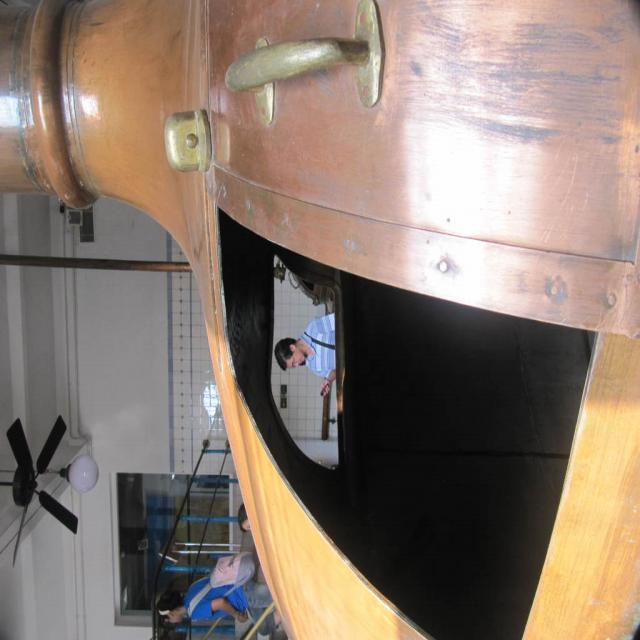fan_off: (0, 414, 86, 568)
